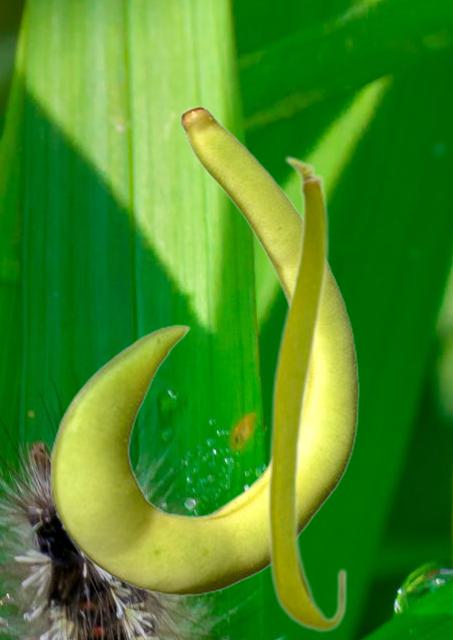french_bean: (49, 105, 359, 595), (265, 154, 347, 632)
